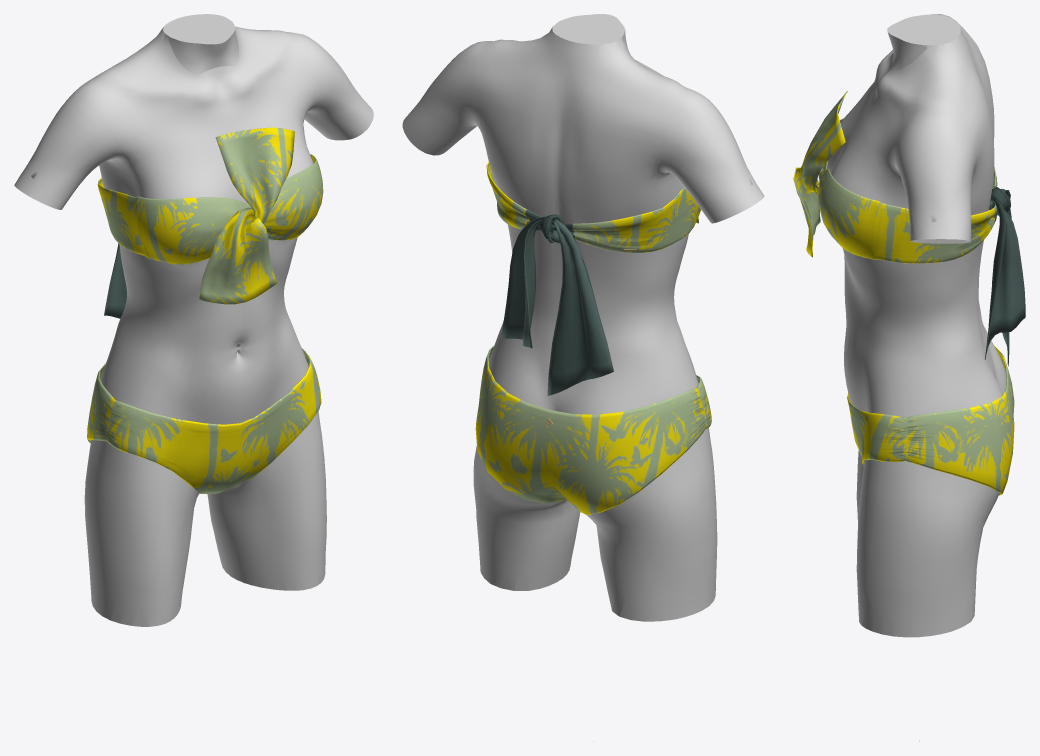
File: Swimsuit_M_JDD.gltf
3 renders of one model, left to right at view 1: azimuth 30°, elevation 25°; view 2: azimuth 150°, elevation 25°; view 3: azimuth 270°, elevation 25°, orthographic.
Visible parts, largest first — view 1: Mannequin, Swimsuit; view 2: Mannequin, Swimsuit; view 3: Mannequin, Swimsuit.
Boxes of the visible parts, x1,y1,x2,y2 form: Mannequin: (14,14,373,626); Swimsuit: (87,127,323,741); Mannequin: (402,14,764,621); Swimsuit: (475,162,711,741); Mannequin: (827,14,1006,637); Swimsuit: (793,91,1025,741).
Bounding box in the file's own units: 0.7735 × 1.5 × 0.4449.
Materials: 2 (1 with a texture image).
